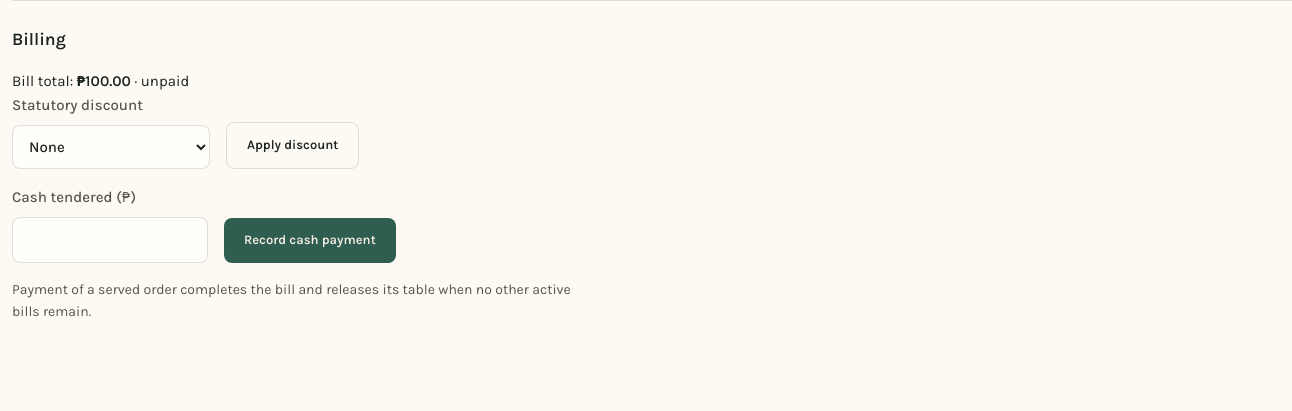
it: discount requires staff verification and cash records tendered amount
The width and height of the screenshot is (1292, 411).
Select "Senior citizen" in the dropdown labelled "Statutory discount" at (111, 147), box x1=12 y1=125 x2=210 y2=169
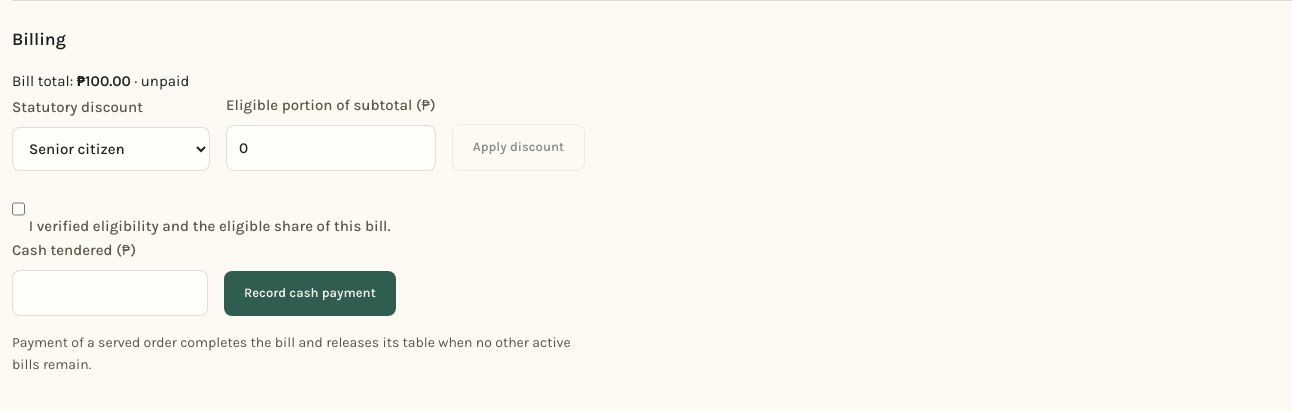
Result: the button "Apply discount" is disabled at x1=452 y1=124 x2=585 y2=171
Replace the text in the number field labelled "Eligible portion of subtotal (₱)" with "112" at (331, 148), box x1=226 y1=125 x2=436 y2=171
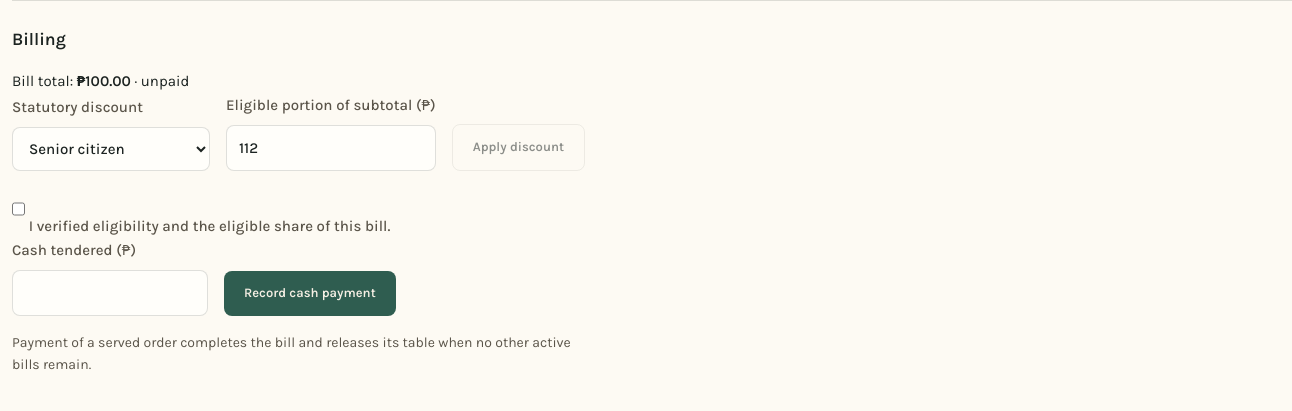
Click the checkbox.
click(18, 209)  # box x1=12 y1=187 x2=25 y2=231
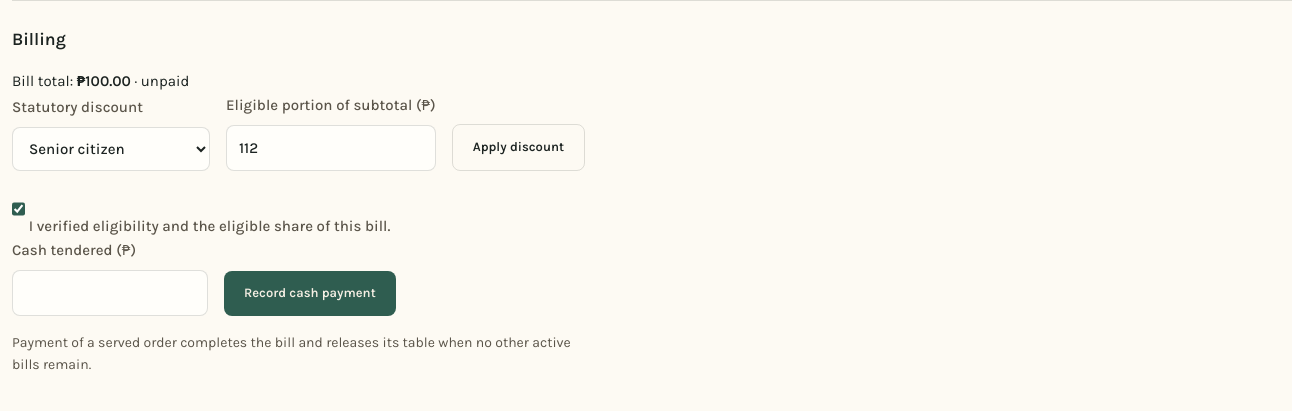
Click the button "Apply discount".
click(518, 148)  # box x1=452 y1=124 x2=585 y2=171
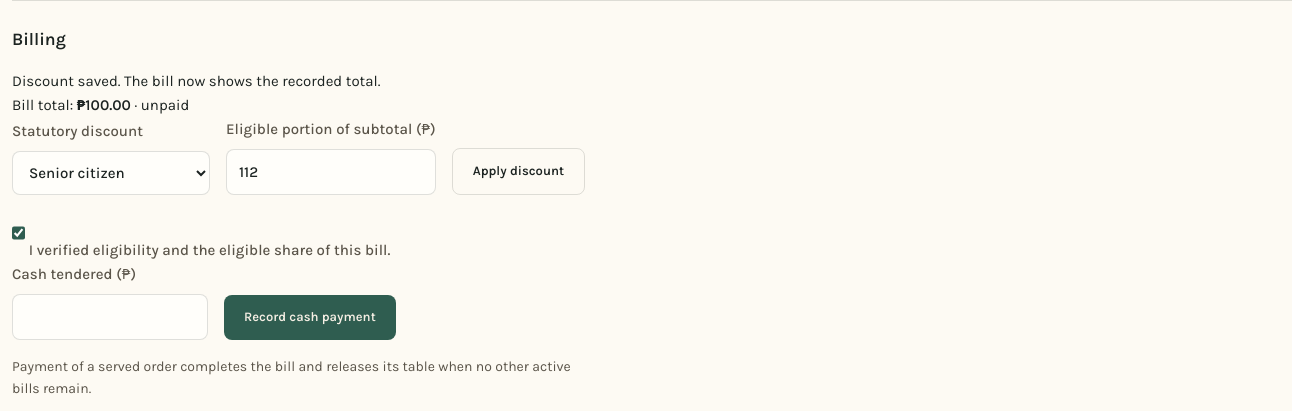
Result: the text "Discount saved. The bill now shows the recorded total." is shown at x1=12 y1=72 x2=380 y2=90
Type "150" into the number field labelled "Cash tendered (₱)".
click(110, 317); type("150")  # box x1=12 y1=294 x2=208 y2=340
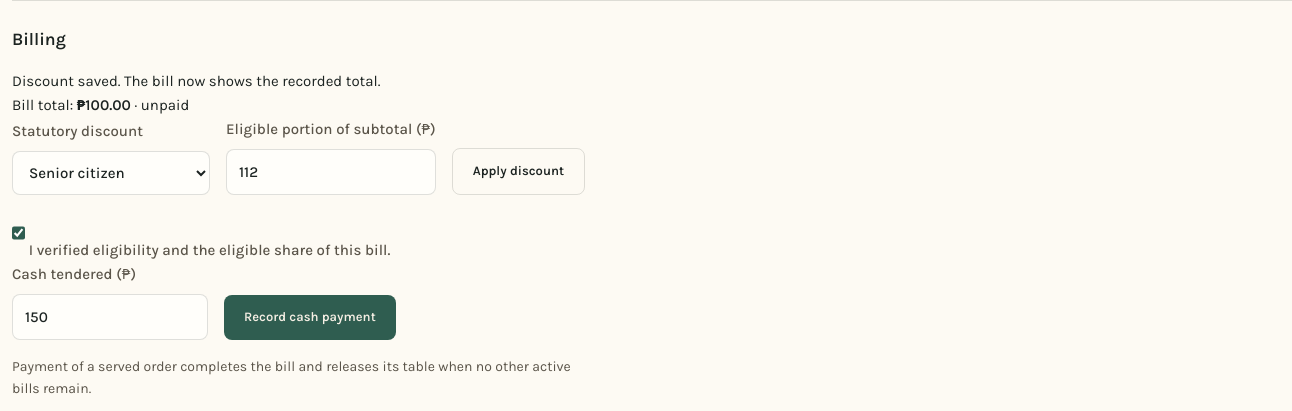
Click the button "Record cash payment".
click(310, 318)  # box x1=224 y1=295 x2=396 y2=340
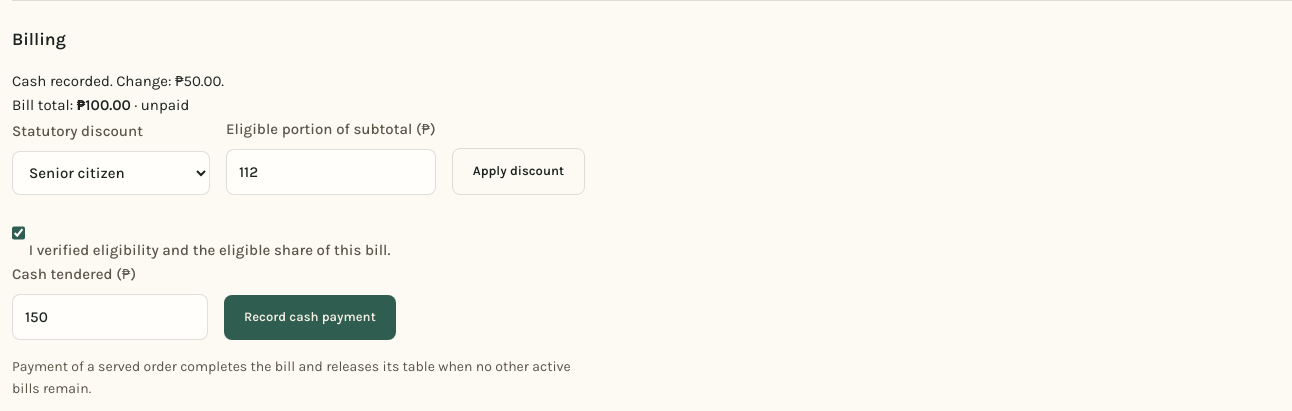
Result: the text "Cash recorded. Change: ₱50.00." is shown at x1=12 y1=72 x2=224 y2=90
